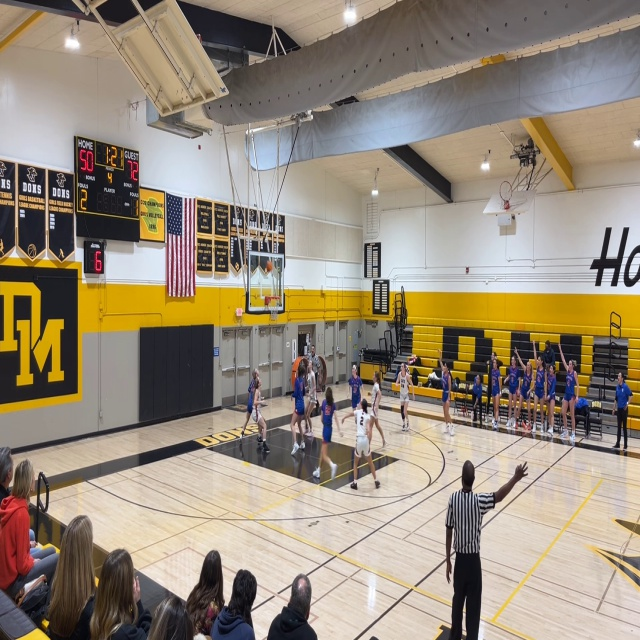Basketball: (265, 261, 273, 272)
